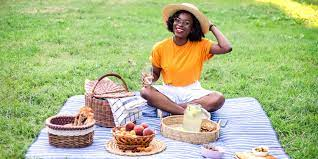person: (139, 3, 235, 119)
